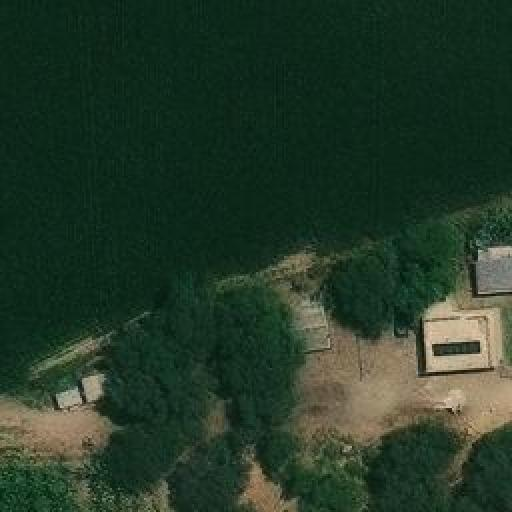manzanas: (420, 309, 500, 379), (276, 291, 335, 357), (51, 367, 125, 416), (473, 244, 510, 299)
